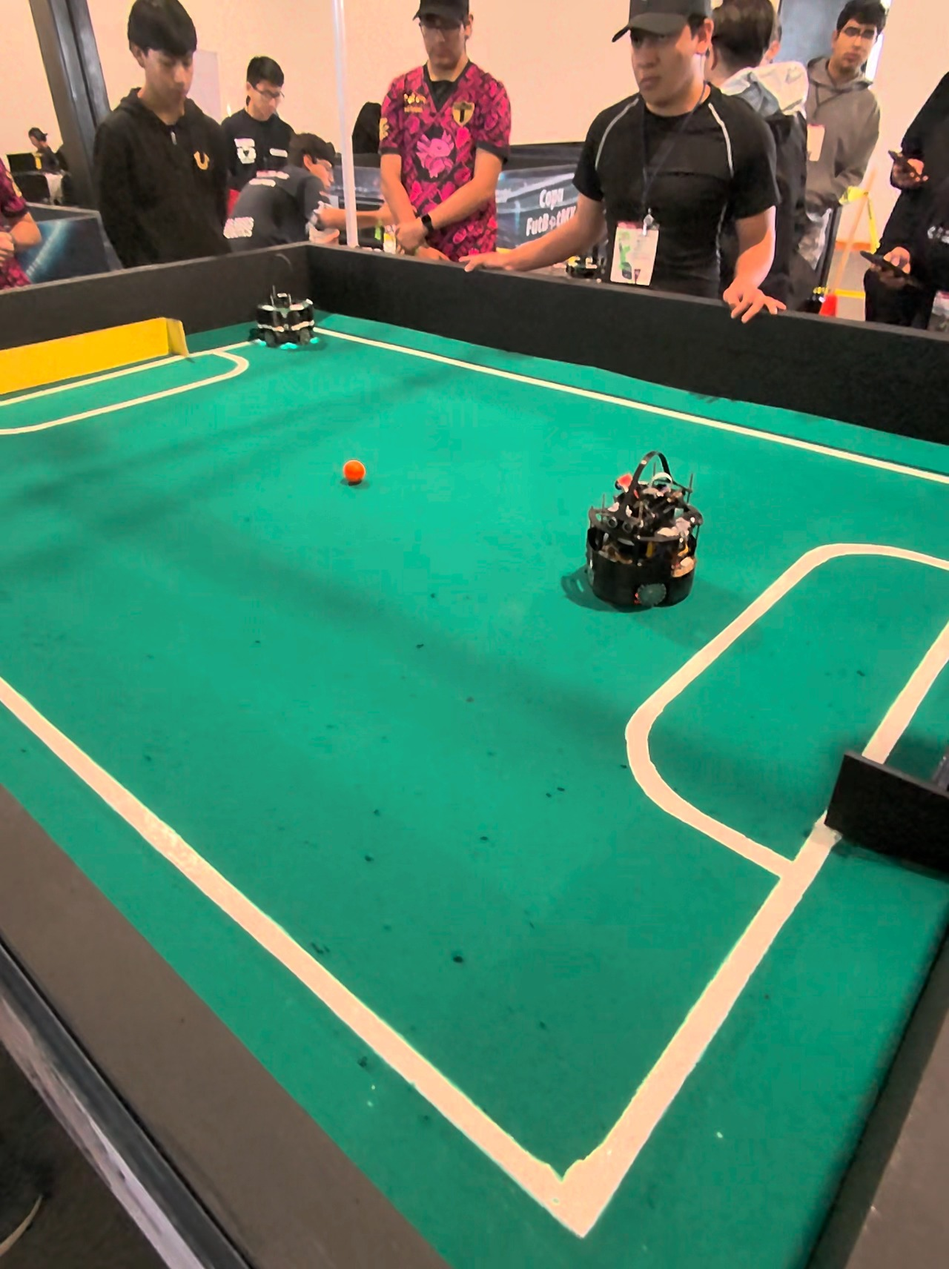Robot: (583, 455, 707, 621), (253, 248, 326, 359)
pelota: (345, 464, 364, 483)
